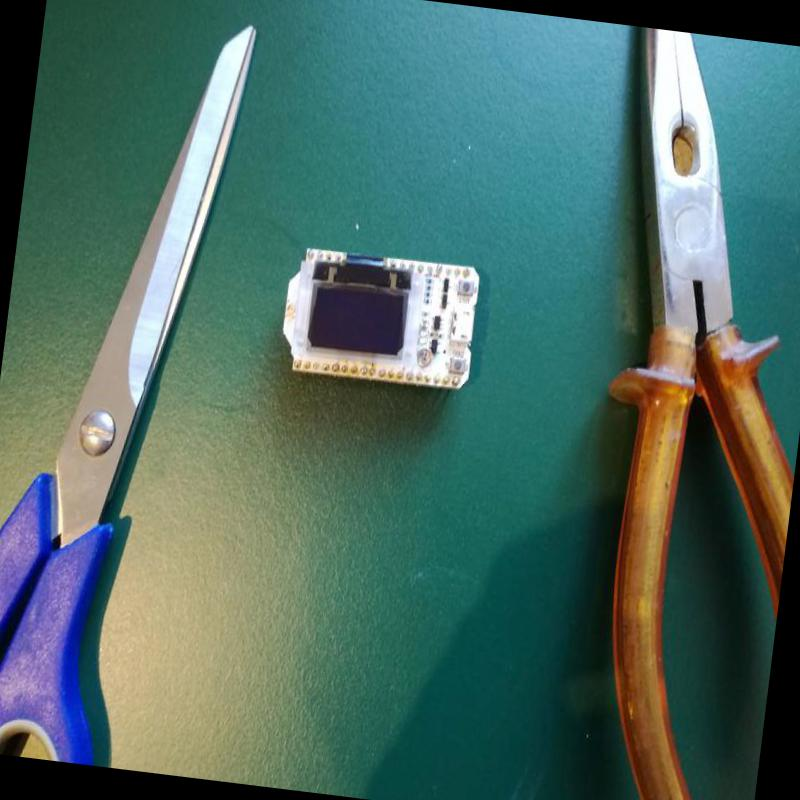Heltec_ESP32_Lora: (271, 233, 492, 399)
